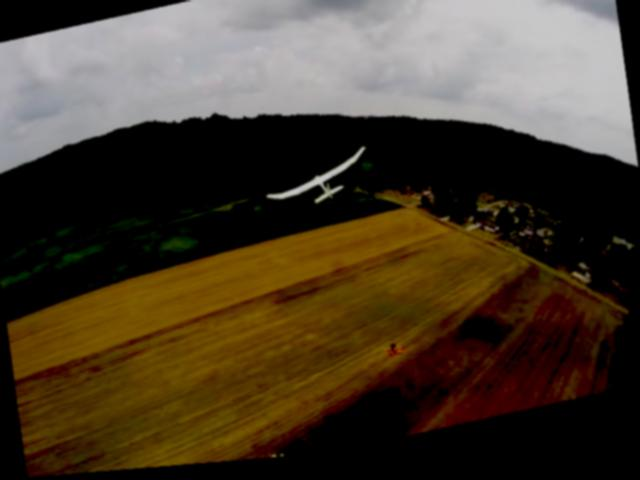uav: (260, 149, 372, 221)
